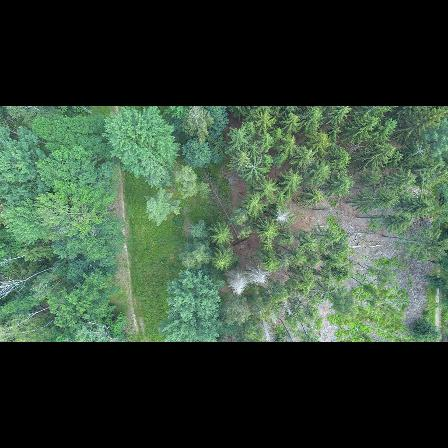Dead: (225, 268, 249, 298), (248, 261, 272, 287)
Sick: (269, 205, 294, 228)
